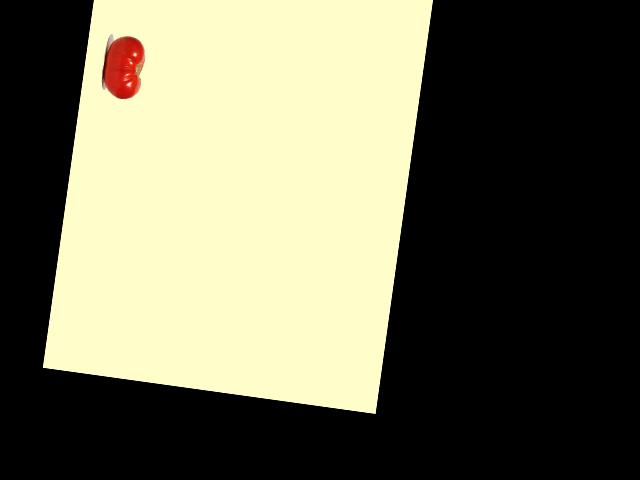tomato: (100, 34, 147, 101)
